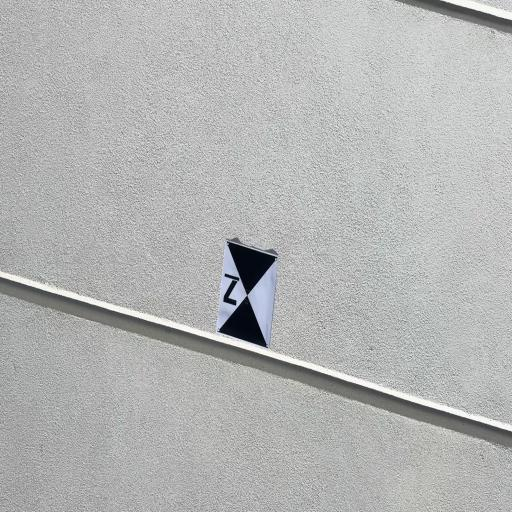target7: (215, 238, 279, 350)
